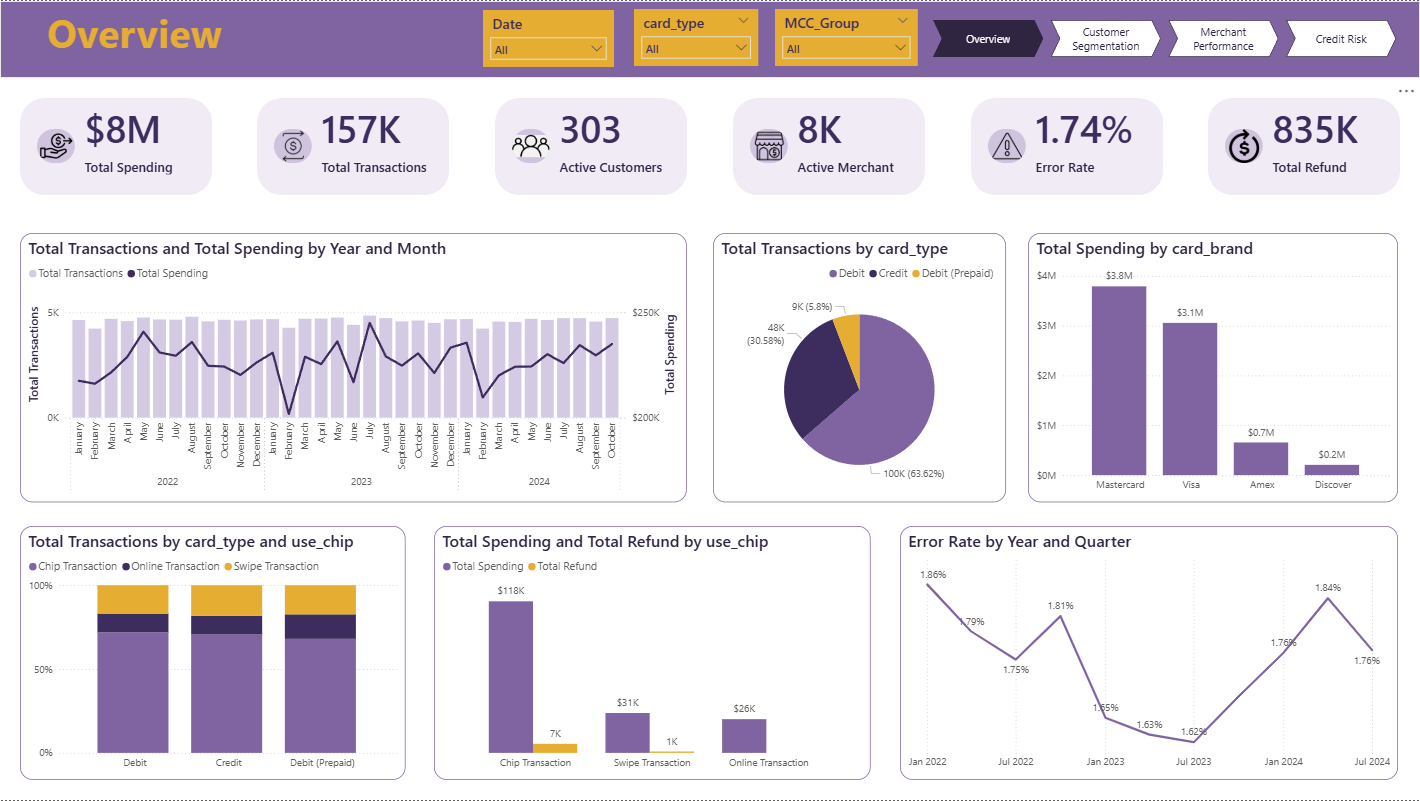

Layout of this report page (visuals, bound fields, positions):
{"tool":"powerbi","page":{"name":"Overview","canvas":[1920,1080],"ordinal":0},"visuals":[{"type":"shape","box":[26.7,132.3,259.7,131.3],"z":0,"group":"g1"},{"type":"shape","box":[348,132.3,259.7,131.3],"z":0,"group":"g2"},{"type":"shape","box":[669.2,132.3,259.7,131.3],"z":0,"group":"g3"},{"type":"shape","box":[990.4,132.3,259.7,131.3],"z":0,"group":"g4"},{"type":"shape","box":[1311.6,132.3,259.7,131.3],"z":0,"group":"g5"},{"type":"shape","box":[1632.8,132.3,259.7,131.3],"z":0,"group":"g6"},{"type":"lineClusteredColumnComboChart","fields":{"Y2":["_Measures.Total Spending"],"Y":["_Measures.Total Transactions"],"Category":["dim_date.Date.Variation.Date Hierarchy.Year","dim_date.Date.Variation.Date Hierarchy.Month"]},"box":[26.9,313.4,901.5,364.2],"z":0},{"type":"clusteredColumnChart","fields":{"Y":["_Measures.Total Spending","_Measures.Total Refund"],"Category":["fact_transactions.use_chip"]},"box":[586.6,709,589.6,343.3],"z":1000},{"type":"pieChart","fields":{"Category":["dim_cards.card_type"],"Y":["_Measures.Total Transactions"]},"box":[964.2,313.4,395.5,364.2],"z":2000},{"type":"clusteredColumnChart","fields":{"Y":["_Measures.Gross Spending"],"Category":["dim_cards.card_brand"]},"box":[1389.6,313.4,500,364.2],"z":3000},{"type":"hundredPercentStackedColumnChart","fields":{"Category":["dim_cards.card_type"],"Series":["fact_transactions.use_chip"],"Y":["_Measures.Total Transactions"]},"box":[26.9,709,520.9,343.3],"z":4000},{"type":"lineChart","fields":{"Y":["_Measures.Error Rate"],"Category":["dim_date.Date.Variation.Date Hierarchy.Year","dim_date.Date.Variation.Date Hierarchy.Quarter"]},"box":[1216.4,709,673.1,343.3],"z":5000},{"type":"textbox","box":[0,0,1919.1,104.3],"z":6000},{"type":"pageNavigator","box":[1260.3,25.9,629.3,50],"z":7000},{"type":"group","id":"g1","title":"Group 1","box":[26.7,120.9,261.6,142.7],"z":8000},{"type":"group","id":"g2","title":"Group 1","box":[348,120.9,261.6,142.7],"z":9000},{"type":"group","id":"g3","title":"Group 1","box":[669.2,120.9,261.6,142.7],"z":10000},{"type":"group","id":"g4","title":"Group 1","box":[990.4,120.9,261.6,142.7],"z":11000},{"type":"group","id":"g5","title":"Group 1","box":[1311.6,120.9,261.6,142.7],"z":12000},{"type":"group","id":"g6","title":"Group 1","box":[1632.8,120.9,262.7,141.8],"z":13000},{"type":"slicer","fields":{"Values":["dim_mcc_codes.MCC_Group"]},"box":[1047.8,10.1,192.8,76.8],"z":14000},{"type":"cardVisual","fields":{"Data":["_Measures.Total Spending"]},"box":[84.5,120.9,203.8,131.9],"z":14000,"group":"g1"},{"type":"cardVisual","fields":{"Data":["_Measures.Total Transactions"]},"box":[405.8,120.9,203.8,131.9],"z":14000,"group":"g2"},{"type":"cardVisual","fields":{"Data":["_Measures.Active Customers"]},"box":[727,120.9,203.8,131.9],"z":14000,"group":"g3"},{"type":"cardVisual","fields":{"Data":["_Measures.Active Merchant"]},"box":[1048.2,120.9,203.8,131.9],"z":14000,"group":"g4"},{"type":"cardVisual","fields":{"Data":["_Measures.Error Rate"]},"box":[1369.4,120.9,203.8,131.9],"z":14000,"group":"g5"},{"type":"cardVisual","fields":{"Data":["_Measures.Total Refund"]},"box":[1690.6,120.9,203.8,131.9],"z":14000,"group":"g6"},{"type":"slicer","fields":{"Values":["dim_cards.card_type"]},"box":[856.5,10.1,168.1,76.8],"z":15000},{"type":"image","box":[49.5,173.9,51.5,46],"z":15000,"group":"g1"},{"type":"image","box":[370.8,173.9,51.5,46],"z":15000,"group":"g2"},{"type":"image","box":[692,173.9,51.5,46],"z":15000,"group":"g3"},{"type":"image","box":[1013.2,173.9,51.5,46],"z":15000,"group":"g4"},{"type":"image","box":[1334.4,173.9,51.5,46],"z":15000,"group":"g5"},{"type":"image","box":[1655.6,173.9,51.5,46],"z":15000,"group":"g6"},{"type":"slicer","fields":{"Values":["dim_date.Date"]},"box":[652.2,11.6,176.8,76.8],"z":16000}]}

Visuals, with their boxes in screenshot pixels (x1, y1, x2, y2), scaled from the page's 1920x1080 canvas onto the 1420x801 screenshot:
shape: [x1=20, y1=98, x2=212, y2=196]
shape: [x1=257, y1=98, x2=449, y2=196]
shape: [x1=495, y1=98, x2=687, y2=196]
shape: [x1=732, y1=98, x2=925, y2=196]
shape: [x1=970, y1=98, x2=1162, y2=196]
shape: [x1=1208, y1=98, x2=1400, y2=196]
lineClusteredColumnComboChart - _Measures.Total Spending x _Measures.Total Transactions: [x1=20, y1=232, x2=687, y2=503]
clusteredColumnChart - _Measures.Total Spending x _Measures.Total Refund: [x1=434, y1=526, x2=870, y2=780]
pieChart - dim_cards.card_type x _Measures.Total Transactions: [x1=713, y1=232, x2=1006, y2=503]
clusteredColumnChart - _Measures.Gross Spending x dim_cards.card_brand: [x1=1028, y1=232, x2=1398, y2=503]
hundredPercentStackedColumnChart - dim_cards.card_type x fact_transactions.use_chip: [x1=20, y1=526, x2=405, y2=780]
lineChart - _Measures.Error Rate x dim_date.Date.Variation.Date Hierarchy.Year: [x1=900, y1=526, x2=1397, y2=780]
textbox: [x1=0, y1=0, x2=1419, y2=77]
pageNavigator: [x1=932, y1=19, x2=1398, y2=56]
"Group 1" group: [x1=20, y1=90, x2=213, y2=196]
"Group 1" group: [x1=257, y1=90, x2=451, y2=196]
"Group 1" group: [x1=495, y1=90, x2=688, y2=196]
"Group 1" group: [x1=732, y1=90, x2=926, y2=196]
"Group 1" group: [x1=970, y1=90, x2=1164, y2=196]
"Group 1" group: [x1=1208, y1=90, x2=1402, y2=195]
slicer - dim_mcc_codes.MCC_Group: [x1=775, y1=7, x2=918, y2=64]
cardVisual - _Measures.Total Spending: [x1=62, y1=90, x2=213, y2=187]
cardVisual - _Measures.Total Transactions: [x1=300, y1=90, x2=451, y2=187]
cardVisual - _Measures.Active Customers: [x1=538, y1=90, x2=688, y2=187]
cardVisual - _Measures.Active Merchant: [x1=775, y1=90, x2=926, y2=187]
cardVisual - _Measures.Error Rate: [x1=1013, y1=90, x2=1164, y2=187]
cardVisual - _Measures.Total Refund: [x1=1250, y1=90, x2=1401, y2=187]
slicer - dim_cards.card_type: [x1=633, y1=7, x2=758, y2=64]
image: [x1=37, y1=129, x2=75, y2=163]
image: [x1=274, y1=129, x2=312, y2=163]
image: [x1=512, y1=129, x2=550, y2=163]
image: [x1=749, y1=129, x2=787, y2=163]
image: [x1=987, y1=129, x2=1025, y2=163]
image: [x1=1224, y1=129, x2=1263, y2=163]
slicer - dim_date.Date: [x1=482, y1=9, x2=613, y2=66]
